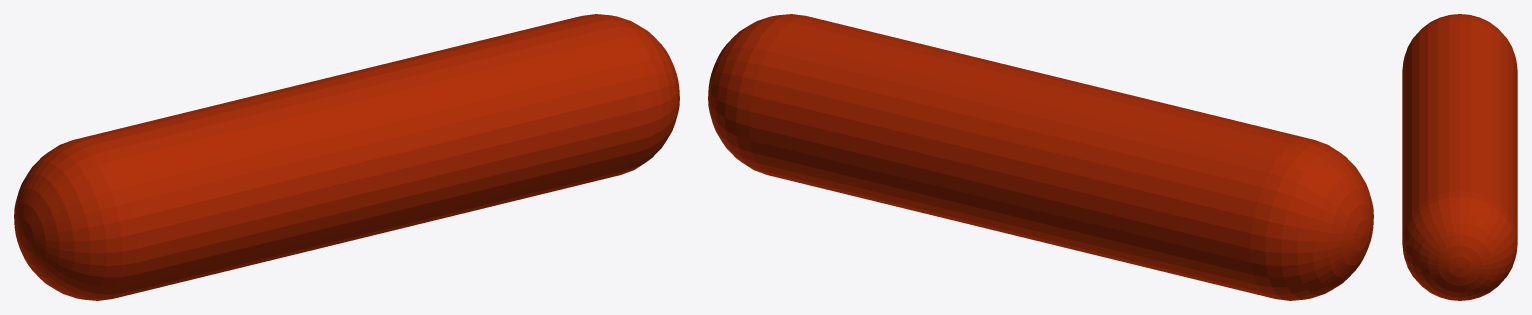
The model's file is worst.dae.
3 views of the same model, side by side, from view 1: azimuth 30°, elevation 25°; view 2: azimuth 150°, elevation 25°; view 3: azimuth 270°, elevation 25° (orthographic). The views are drawn at different scales.
Visible parts, largest first — view 1: Cylinder; view 2: Cylinder; view 3: Cylinder.
Part boxes in pixels (x1=…): Cylinder: x1=14, y1=14, x2=679, y2=300; Cylinder: x1=708, y1=14, x2=1373, y2=300; Cylinder: x1=1402, y1=14, x2=1517, y2=300.
Bounding box in the file's own units: 4.07 × 0.9008 × 0.9008.
